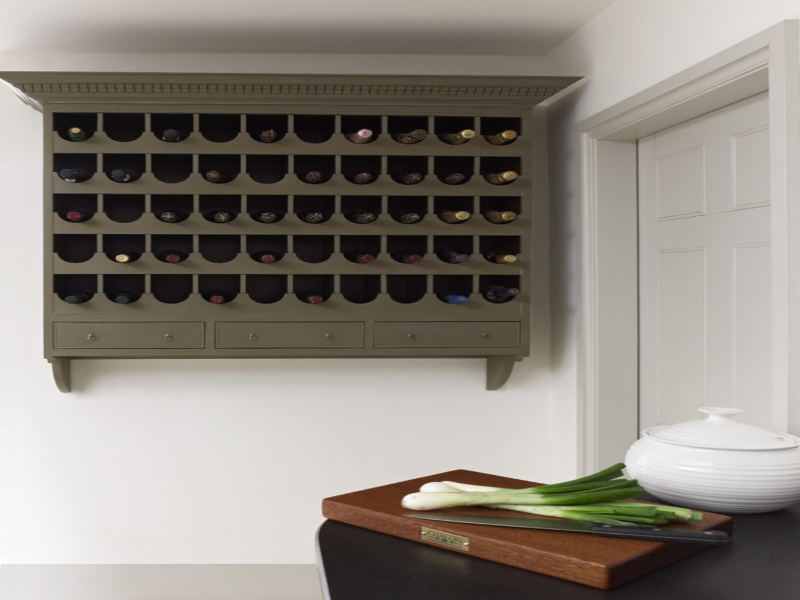wine: (47, 105, 530, 314)
